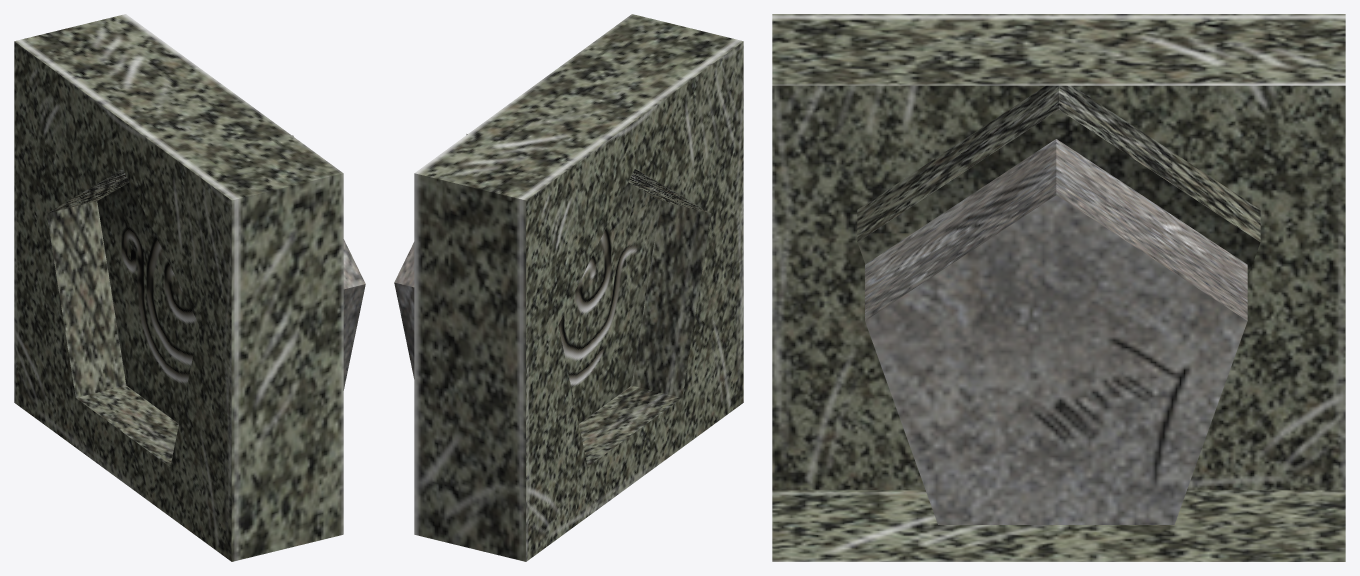
File: socle_vent.fbx
The picture shows the model from 3 angles, left to right: view 1: azimuth 30°, elevation 25°; view 2: azimuth 150°, elevation 25°; view 3: azimuth 270°, elevation 25°; orthographic projection. The views are drawn at different scales.
Parts seen in each view (by area): view 1: socle_vent, glyphe_vent; view 2: socle_vent, glyphe_vent; view 3: socle_vent, glyphe_vent.
Boxes of the visible parts, <box> form: socle_vent: <box>14,14,343,561</box>; glyphe_vent: <box>292,135,365,390</box>; socle_vent: <box>414,14,743,561</box>; glyphe_vent: <box>394,134,467,378</box>; socle_vent: <box>772,14,1345,561</box>; glyphe_vent: <box>865,139,1247,524</box>.
Size of the model in its own units: 9.44 by 19.27 by 21.03.
